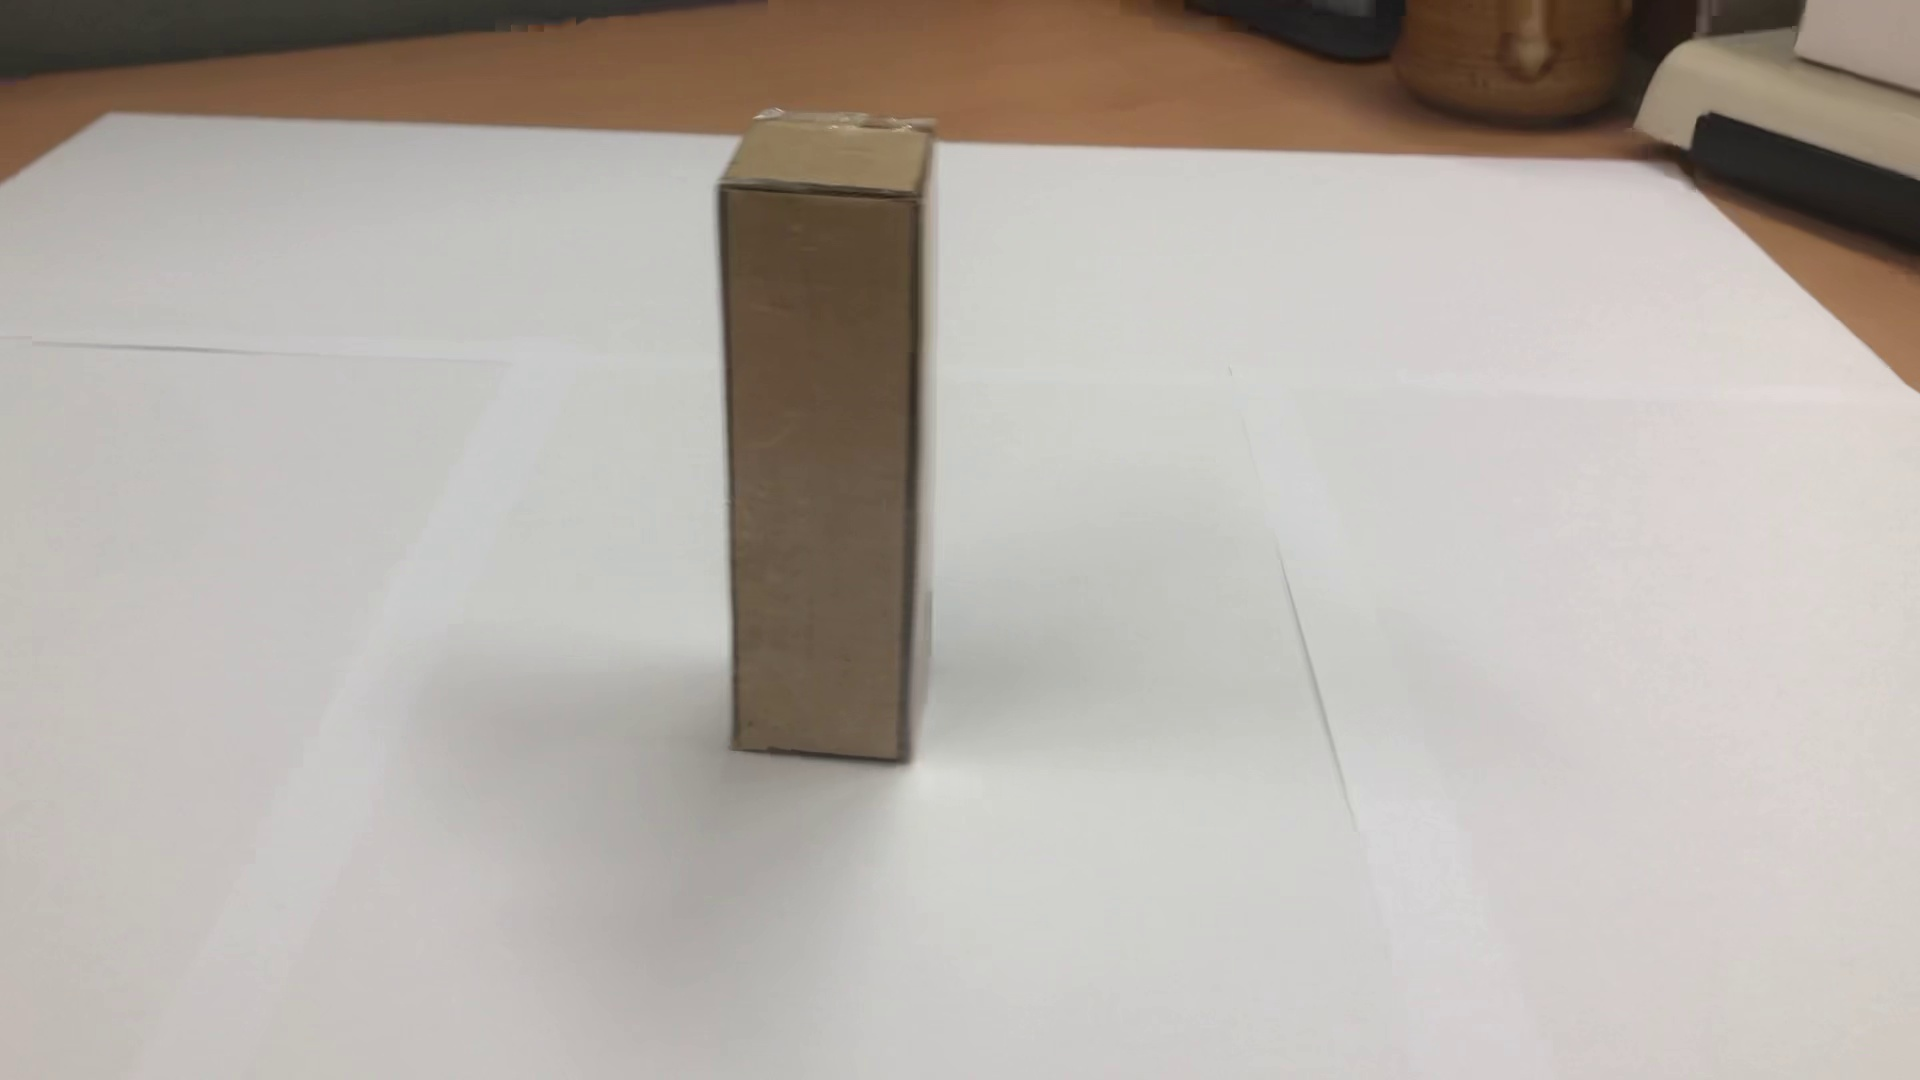box: (688, 73, 968, 798)
